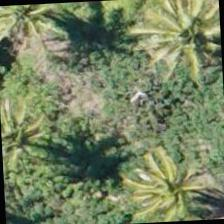Kelapa_Sawit: (121, 144, 215, 224), (0, 90, 62, 184), (144, 0, 223, 71), (0, 2, 69, 65)
